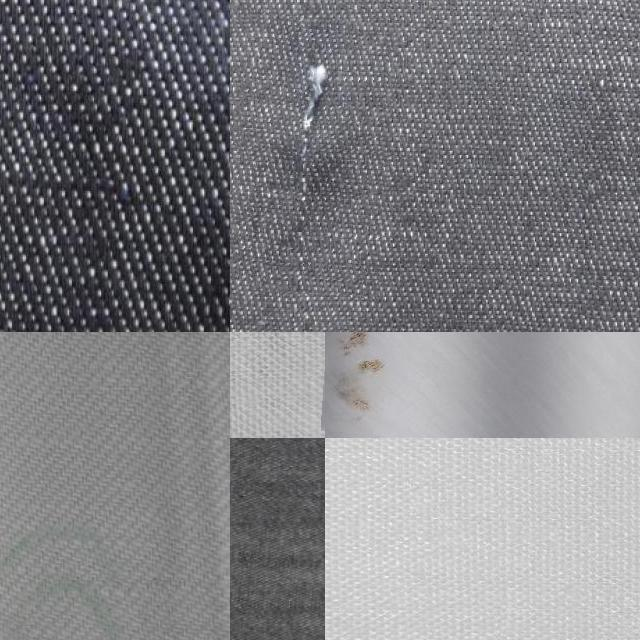Hole: (323, 332, 414, 435)
Thread_other: (232, 17, 394, 297)
